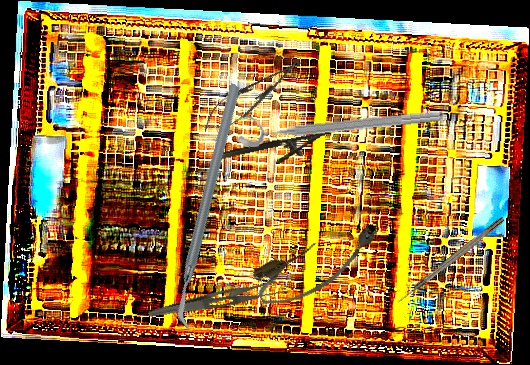Cannula: (248, 215, 389, 315)
Chopper: (96, 82, 324, 333)
Dressing Forceps: (147, 272, 288, 333)
Fixation Ring: (233, 93, 445, 149)
Hook Surgical: (395, 216, 506, 305)
Needle Holder: (195, 49, 311, 141), (215, 127, 337, 177)
